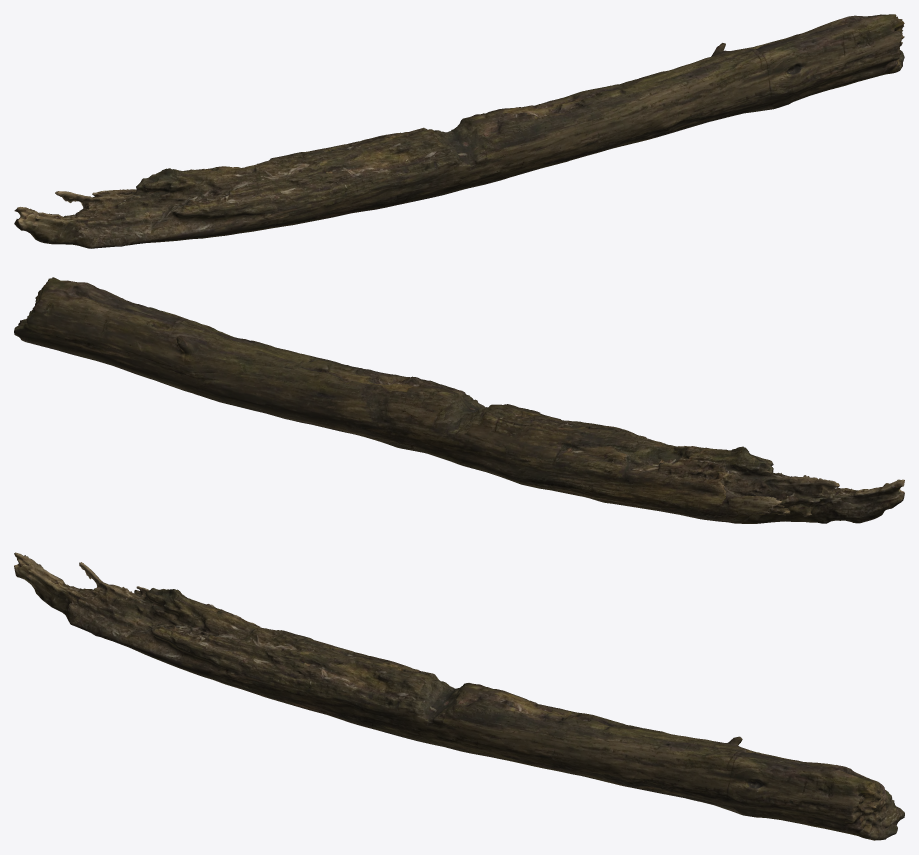
File: dead_tree_trunk.glb
3 renders of one model, top to bottom at view 1: azimuth 30°, elevation 25°; view 2: azimuth 150°, elevation 25°; view 3: azimuth 330°, elevation 25°, orthographic.
Visible parts, largest first — view 1: dead_tree_trunk; view 2: dead_tree_trunk; view 3: dead_tree_trunk.
Part boxes in pixels (x1,y1,x2,y2): dead_tree_trunk: [14, 14, 904, 248]; dead_tree_trunk: [14, 277, 904, 523]; dead_tree_trunk: [14, 552, 904, 840].
Size of the model in its own units: 3.05 by 0.2905 by 0.2775.
Materials: 1 (1 with a texture image).
